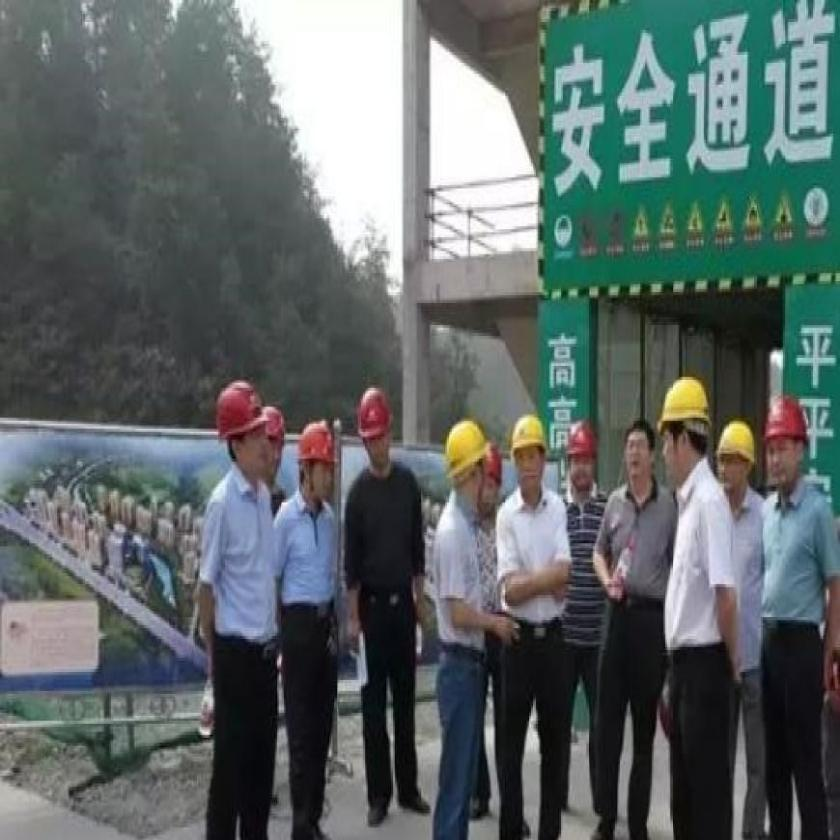Con_casco: (215, 374, 276, 491), (655, 368, 715, 483), (446, 413, 488, 528), (356, 383, 396, 481), (294, 410, 336, 502), (512, 418, 550, 495)
Sin_casco: (620, 416, 657, 492)
